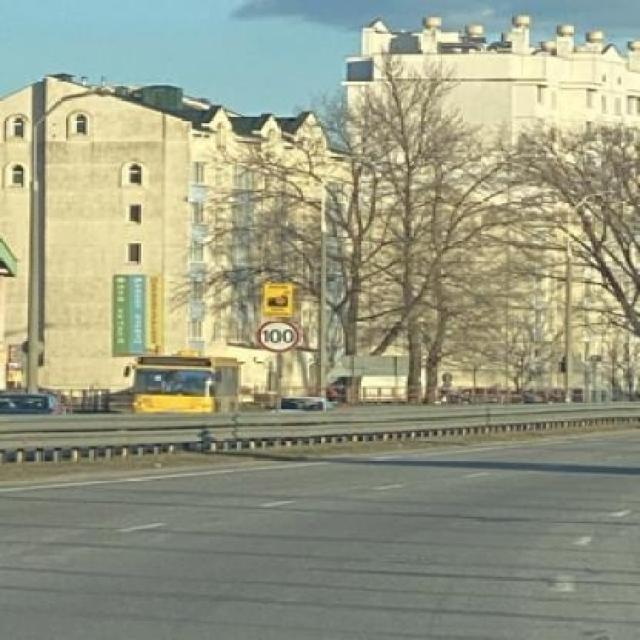forb_speed_over_100: (259, 322, 299, 353)
